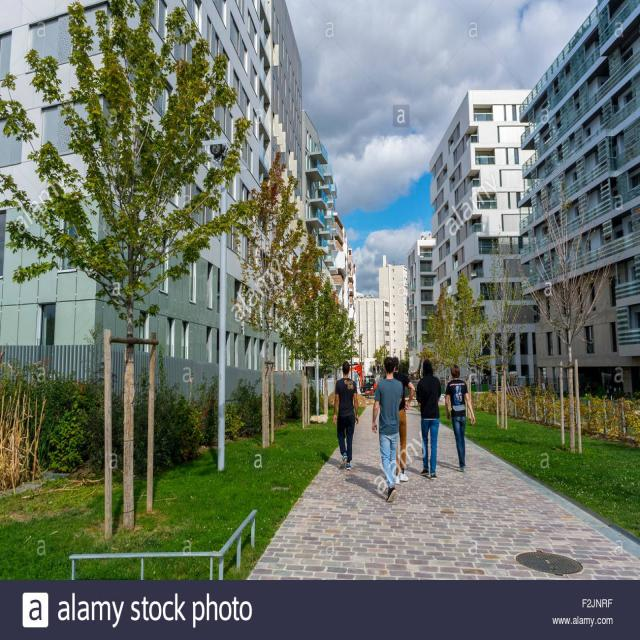body: (371, 355, 404, 504), (383, 355, 416, 487), (444, 363, 477, 473), (415, 358, 442, 482), (332, 359, 359, 471), (408, 369, 423, 380)
